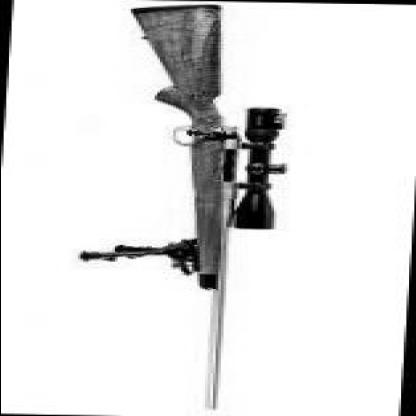rifle: (53, 1, 260, 412)
